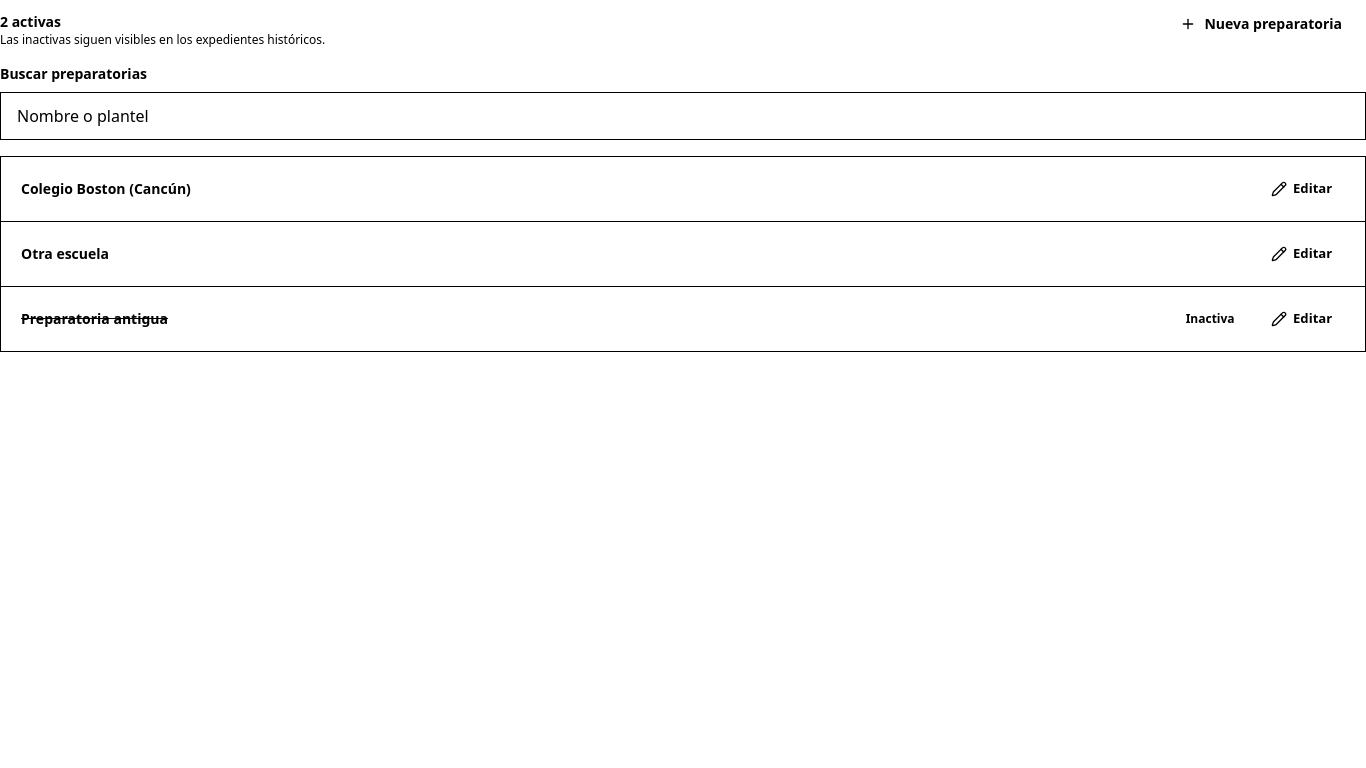
Test: creates a school through the coordination RPC and explains duplicates
Expected: the text "2 activas" is shown, [0,12,61,31]
Click the button "Nueva preparatoria".
click(1261, 24)  # box [1156,0,1365,48]
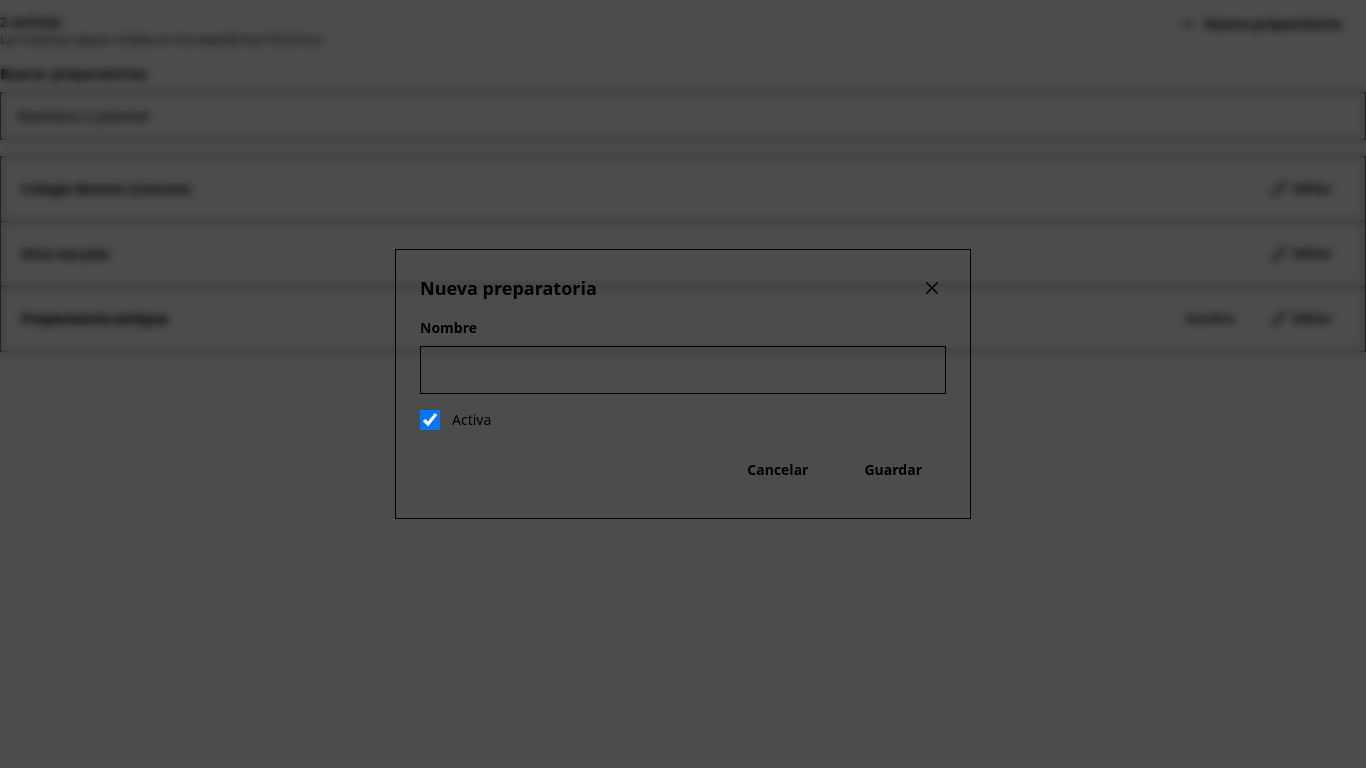
Type "Colegio Boston (Cancún)" into the field labelled "Nombre".
click(683, 370); type("Colegio Boston (Cancún)")  # box [420,346,946,394]
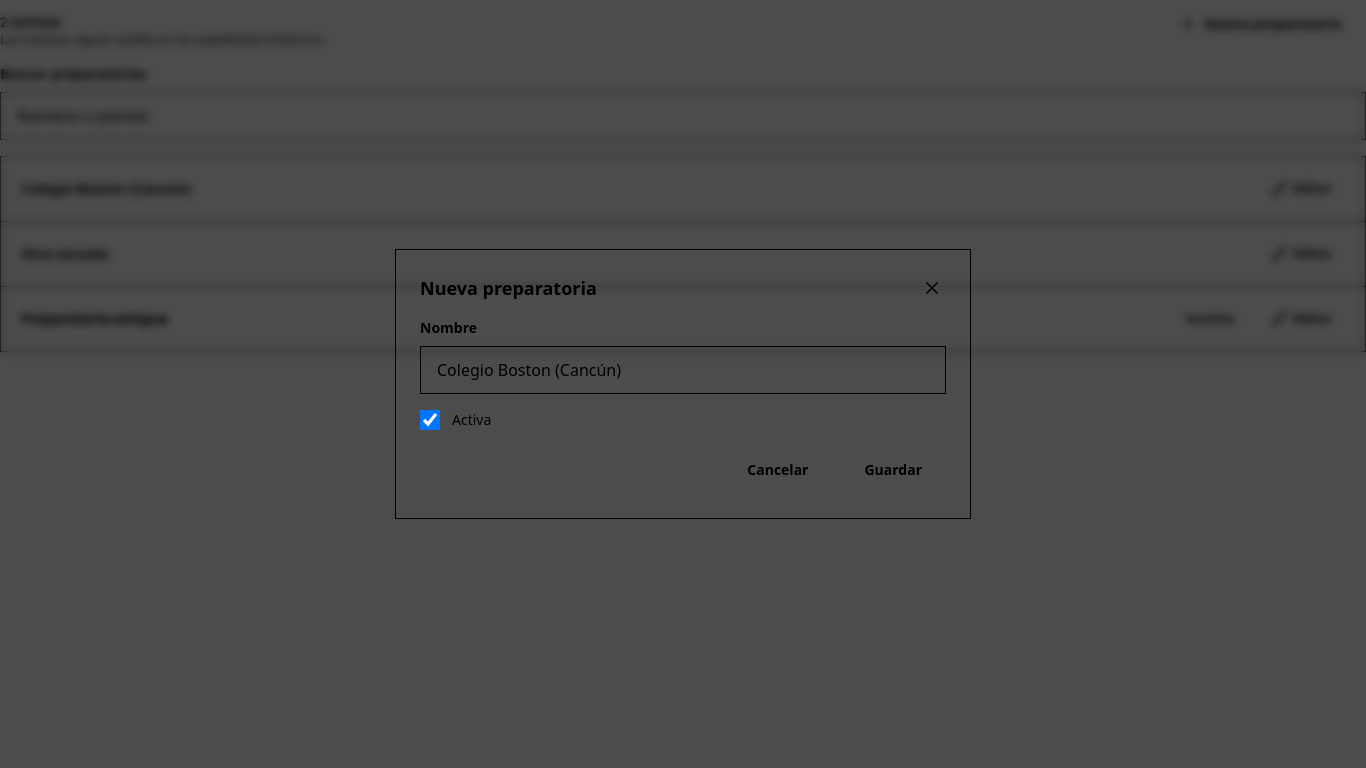
Click the button "Guardar".
click(893, 470)  # box [840,446,946,494]
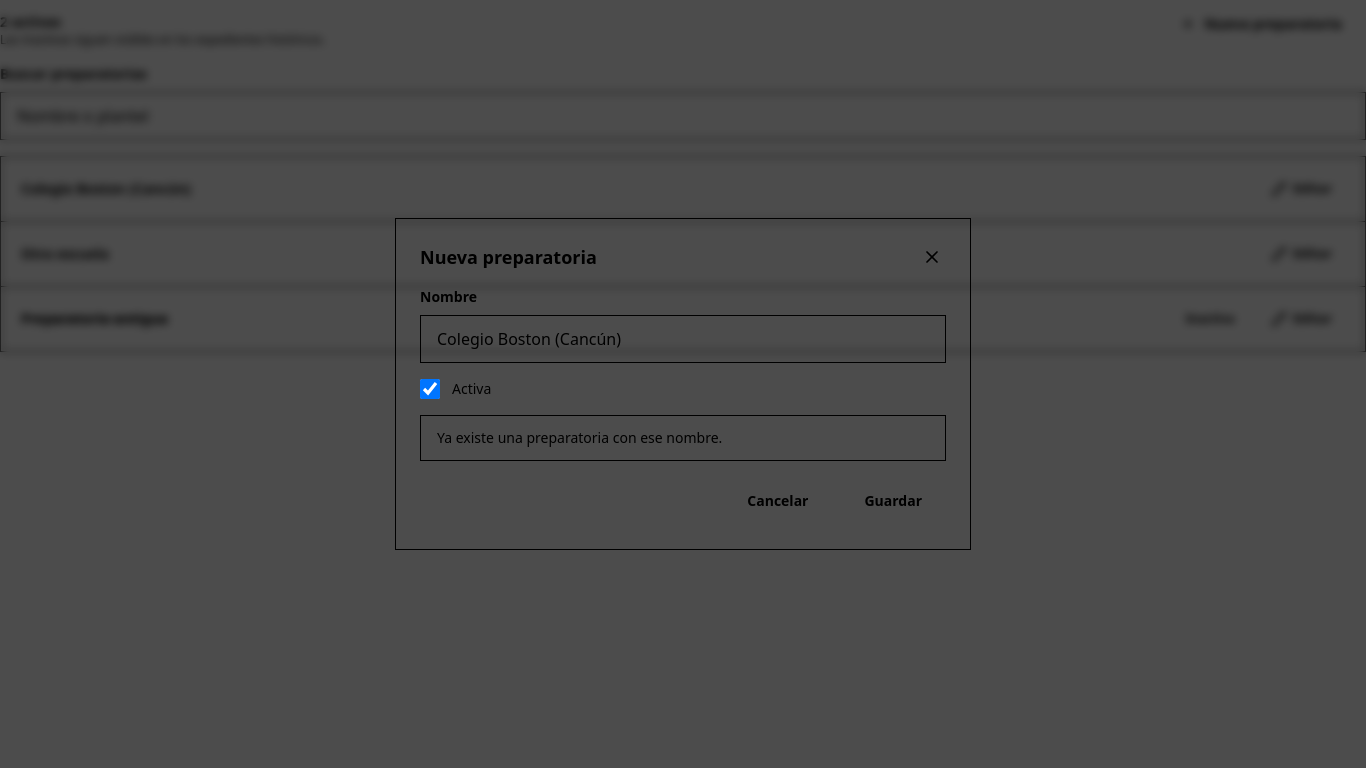
Result: the message reads "Ya existe una preparatoria con ese nombre." at [437,428,722,447]
